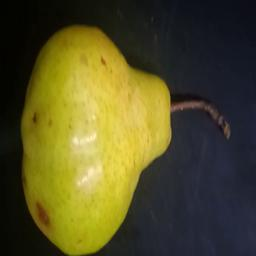Pear Semifresh: (17, 17, 246, 256)
